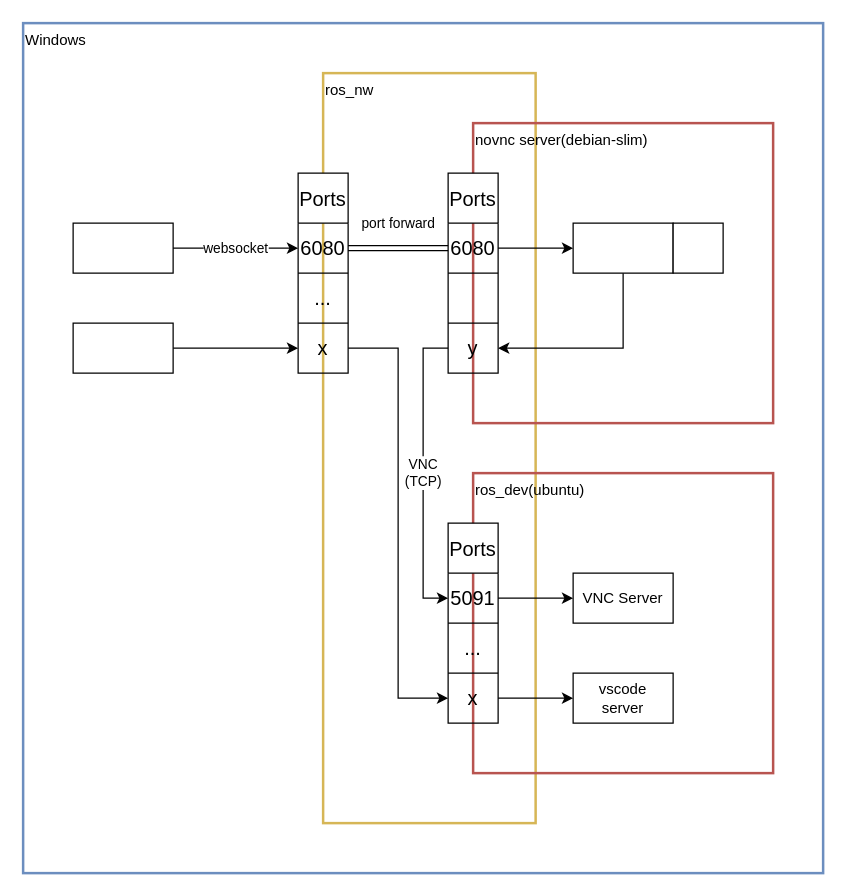
The diagram is 845 pixels wide and 895 high, and some of its shapes have lost their labels. The shapes that lost their labels are listed below. From the top down, each one's centre as x and y in pixels, then its label:
At point (122, 247): "Browser".
At point (622, 247): "Websockify".
At point (697, 247): "no vnc".
At point (122, 347): "vscode".
